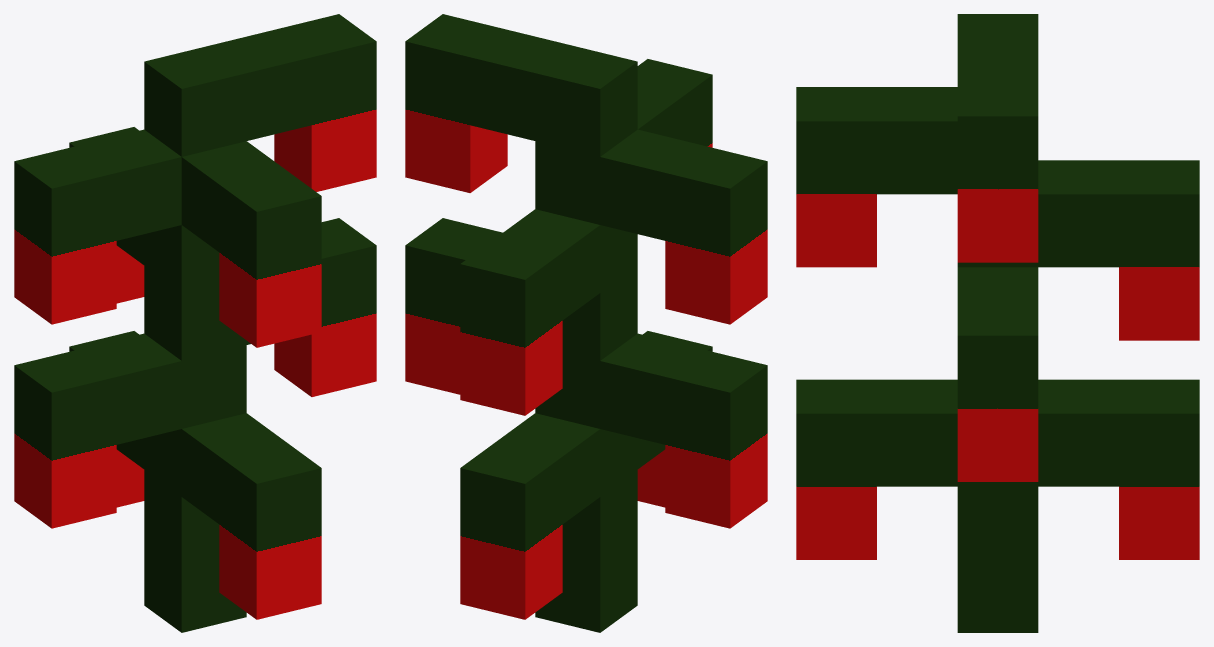
Rendered from tomato_crop.dae.
The picture shows the model from 3 angles, left to right: view 1: azimuth 30°, elevation 25°; view 2: azimuth 150°, elevation 25°; view 3: azimuth 270°, elevation 25°; orthographic projection. The views are drawn at different scales.
Parts seen in each view (by area): view 1: tomato_crop; view 2: tomato_crop; view 3: tomato_crop.
Part boxes in pixels (x1,y1,x2,y2): tomato_crop: (14, 14, 376, 632); tomato_crop: (405, 14, 767, 632); tomato_crop: (796, 14, 1199, 632).
Size of the model in its own units: 0.5 by 0.8 by 0.5.
1 material, 1 textured.
